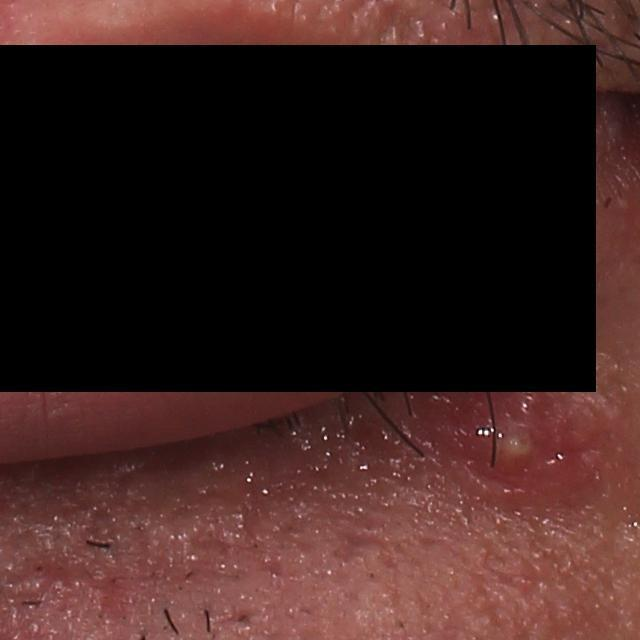atrophic_scar: (327, 520, 387, 565)
